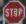Stop sign: (0, 0, 25, 23)
